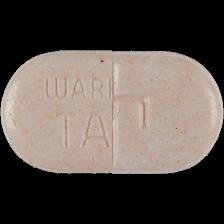51138-059: (0, 0, 224, 224)
